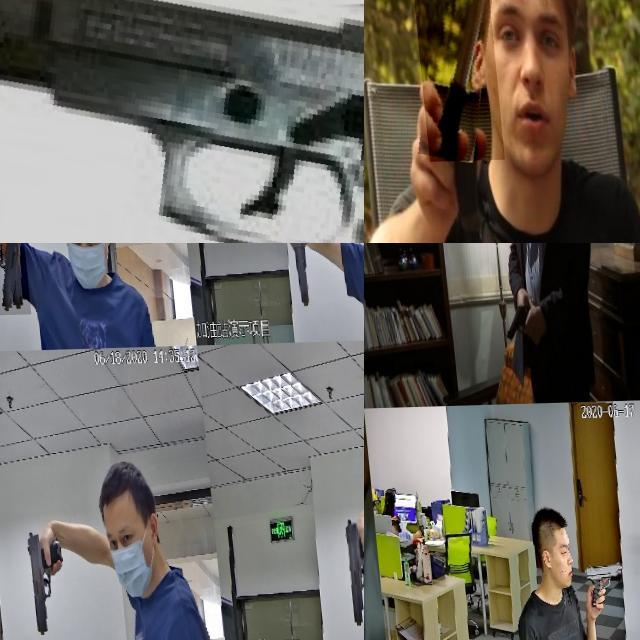-: (408, 0, 499, 162)
gun-knife-thesis - v11 Yolov5 augmented: (0, 0, 364, 243), (364, 539, 416, 640), (12, 528, 56, 636), (327, 517, 364, 623), (273, 243, 316, 309), (364, 268, 392, 367), (570, 563, 612, 620), (0, 243, 28, 316), (493, 298, 526, 349)
